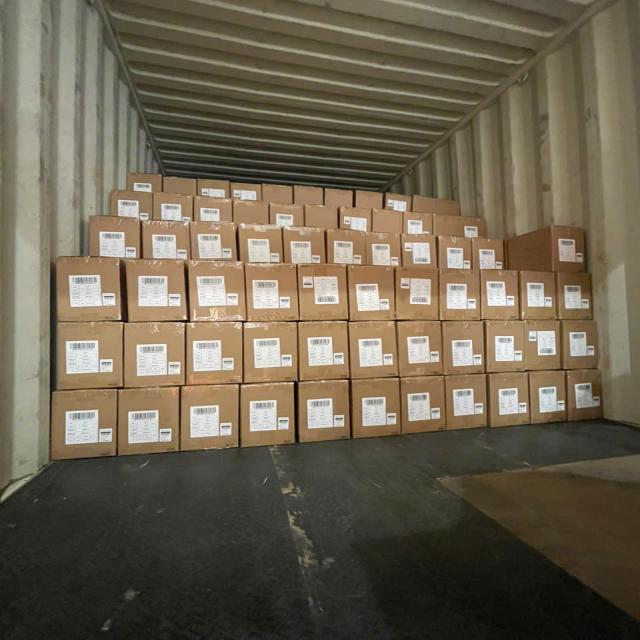Carton: (52, 388, 119, 462), (57, 322, 124, 392), (118, 386, 182, 456), (58, 256, 124, 323), (124, 322, 186, 390), (181, 386, 242, 454), (125, 260, 189, 324), (186, 322, 244, 388), (242, 384, 298, 450), (189, 262, 248, 324), (244, 322, 300, 386), (300, 379, 353, 444), (301, 322, 352, 383), (350, 375, 399, 438), (247, 264, 300, 322), (348, 321, 396, 381), (301, 266, 350, 322), (347, 264, 395, 321), (400, 373, 445, 433), (399, 322, 445, 379), (441, 322, 483, 378), (488, 372, 530, 428), (444, 372, 486, 428), (396, 269, 440, 321), (88, 217, 140, 261), (439, 269, 481, 321), (485, 320, 524, 374), (532, 368, 570, 423), (510, 230, 555, 275), (480, 270, 520, 320), (566, 367, 602, 421), (560, 321, 598, 372), (144, 222, 192, 262), (191, 223, 239, 262), (524, 321, 560, 373), (519, 270, 556, 320), (556, 274, 592, 322), (241, 224, 286, 262), (282, 228, 326, 266), (552, 225, 586, 274), (328, 230, 366, 267), (402, 234, 438, 271), (436, 238, 472, 274), (366, 233, 402, 267), (471, 237, 503, 271), (194, 198, 233, 224), (232, 202, 267, 227), (304, 206, 336, 231), (271, 205, 304, 229)
